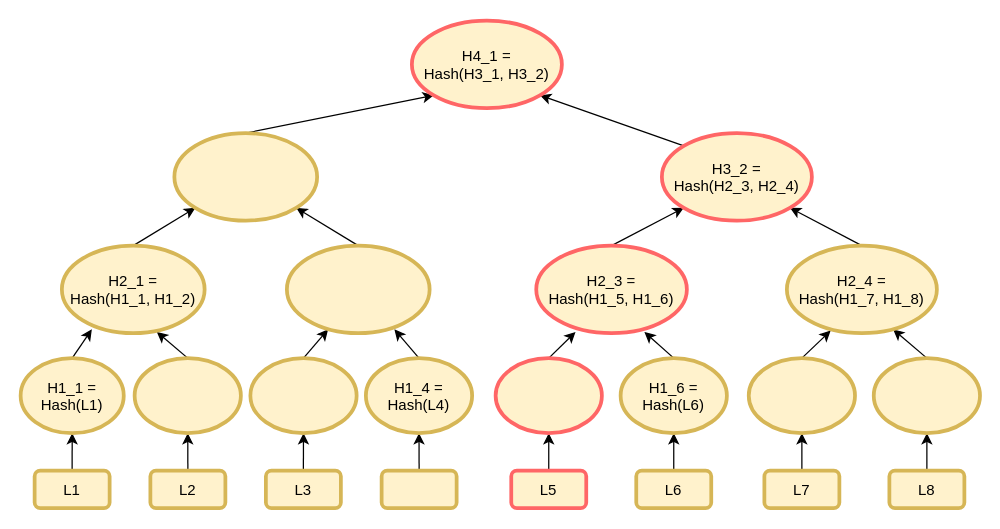
Some shapes in this 1000 by 529 pixel diagram are drawn without their labels. The centre of each missing label's shape, as x and y in pixels:
"H1_2 = Hash(L2)" belongs at [187,395].
"H1_3 = Hash(L3)" belongs at [303,395].
"H1_5 = Hash(L5)" belongs at [548,395].
"H1_7 = Hash(L7)" belongs at [801,395].
"H1_8 = Hash(L8)" belongs at [926,395].
"H2_2 = Hash(H1_3, H1_4)" belongs at [357,288].
"H3_1 = Hash(H2_1, H2_2)" belongs at [245,176].
"L4" belongs at [418,488].
